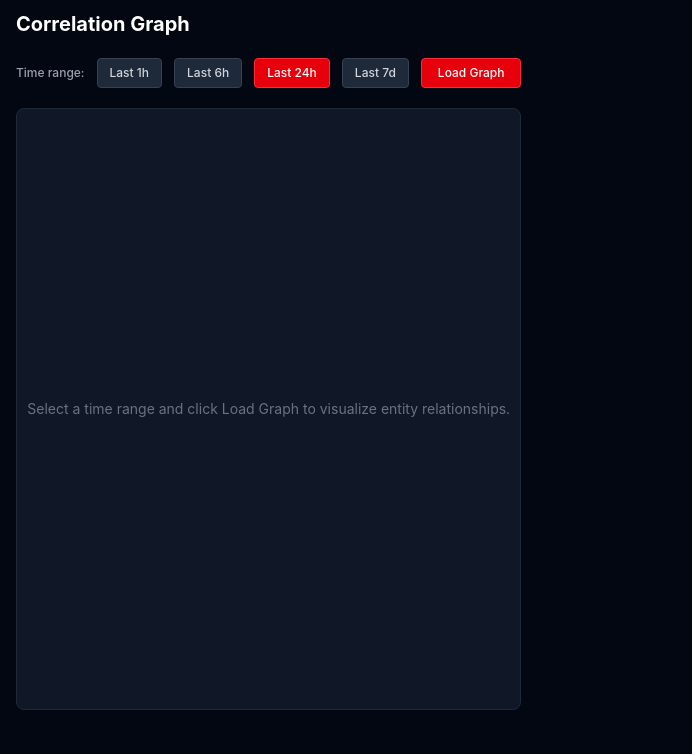
CorrelationPage › node-cap warning › shows the node-cap warning when node count exceeds 200
Click the button "Load Graph".
click(471, 73)  # box 421,58 -> 522,88
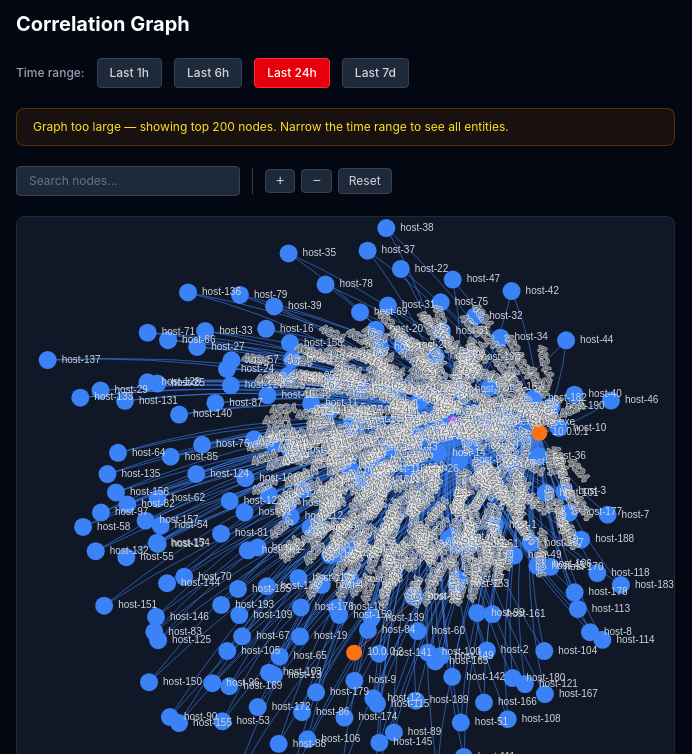
Expected: the text "Graph too large" is shown, 33,119 -> 212,134
Expected: the text "200 nodes" is shown, 16,108 -> 675,146
